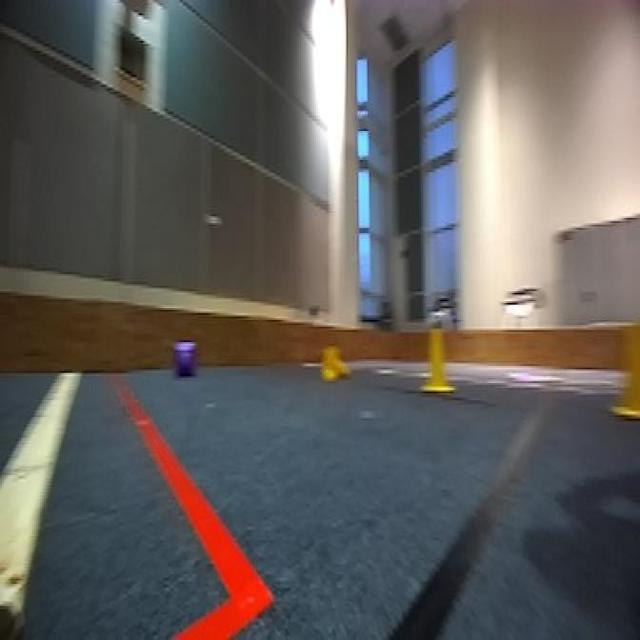frc_cone: (611, 325, 640, 421), (420, 320, 456, 395), (320, 346, 352, 381)
frc_cube: (175, 342, 196, 378)
